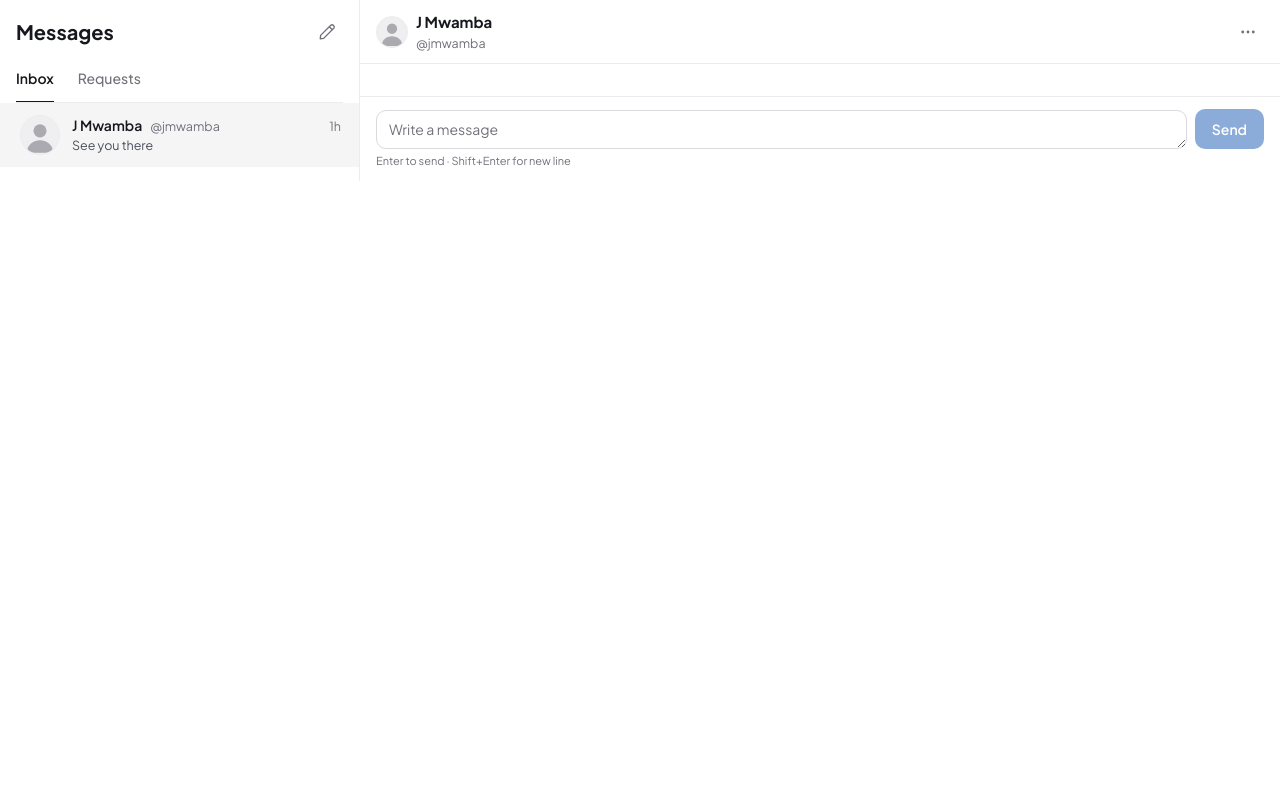
Test case: a conversation › shows the refusal from the server in words
Type "hello?" into the text box labelled "message" at point(781, 130), box [376,110,1187,149]
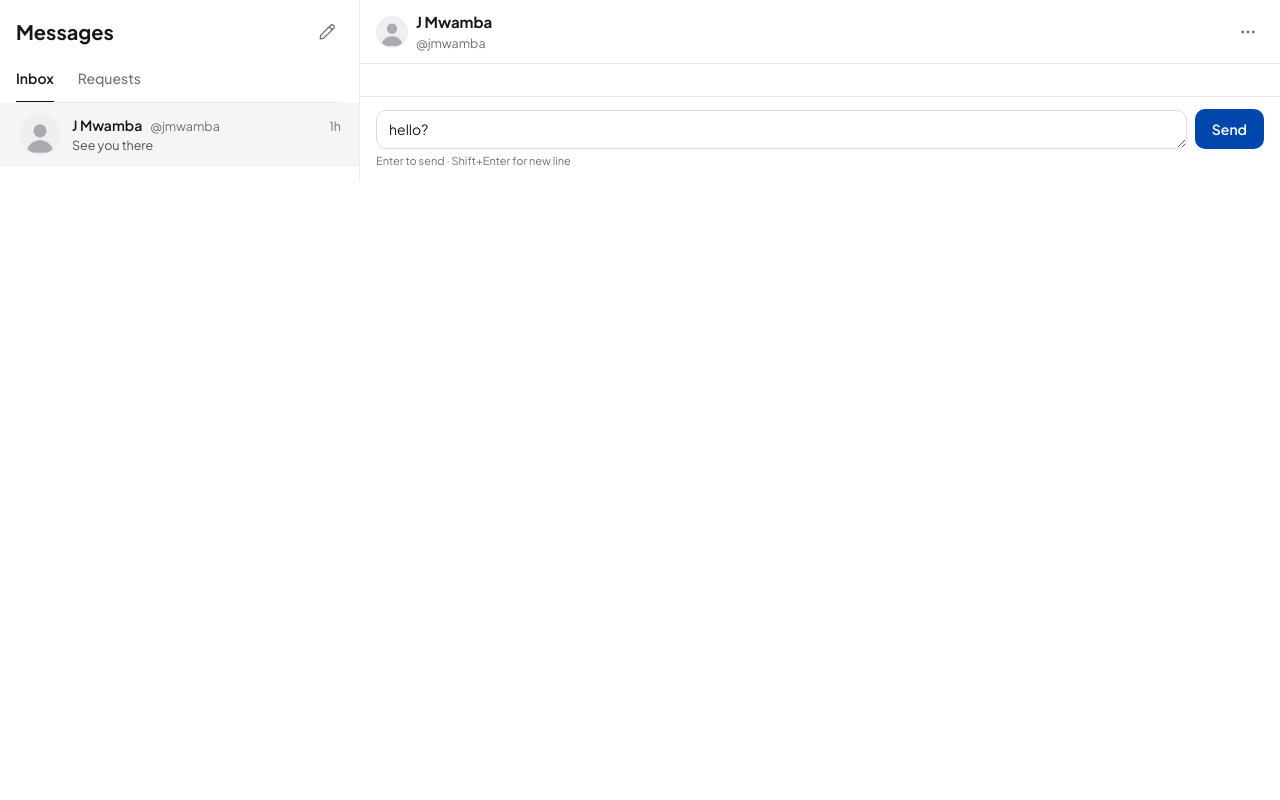
Click the button "Send" at point(1229, 129), box [1195,109,1264,149]
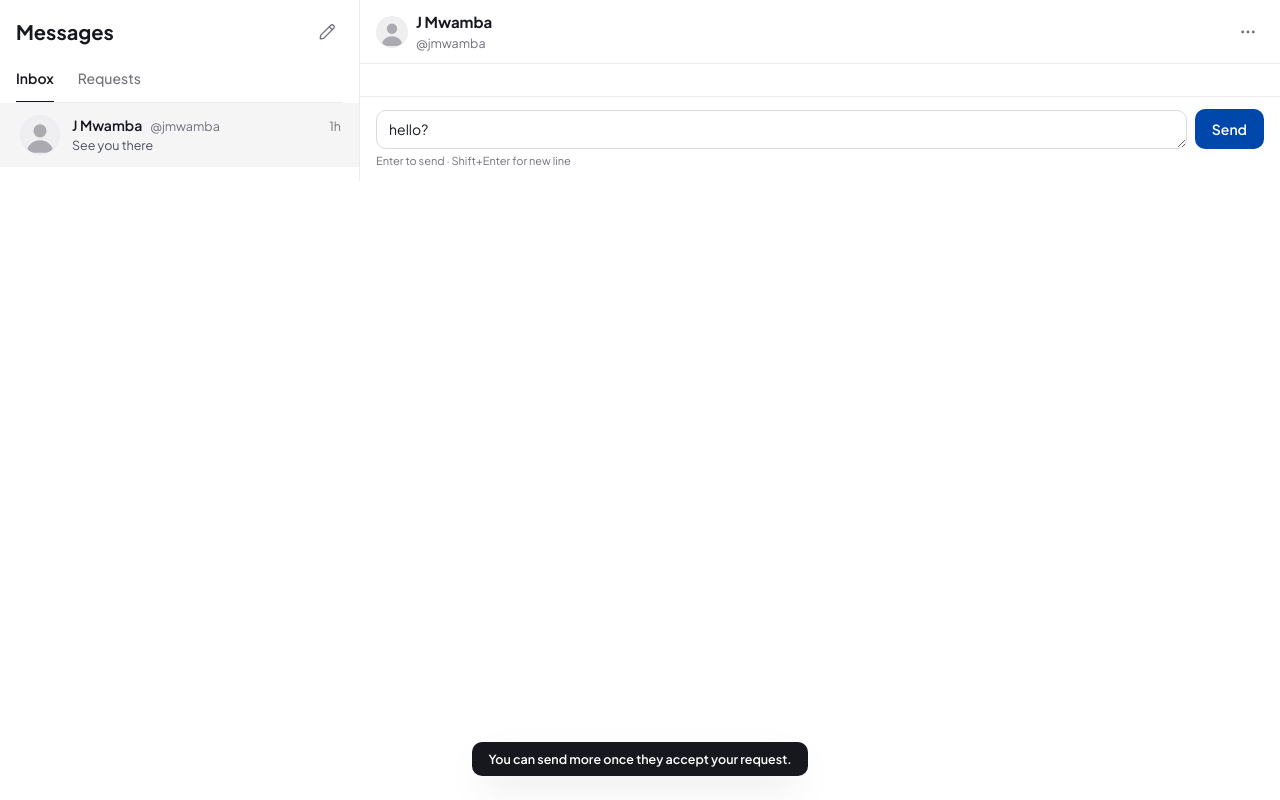
Expected: the text "You can send more once they accept your request." is shown, [488,750,792,768]
